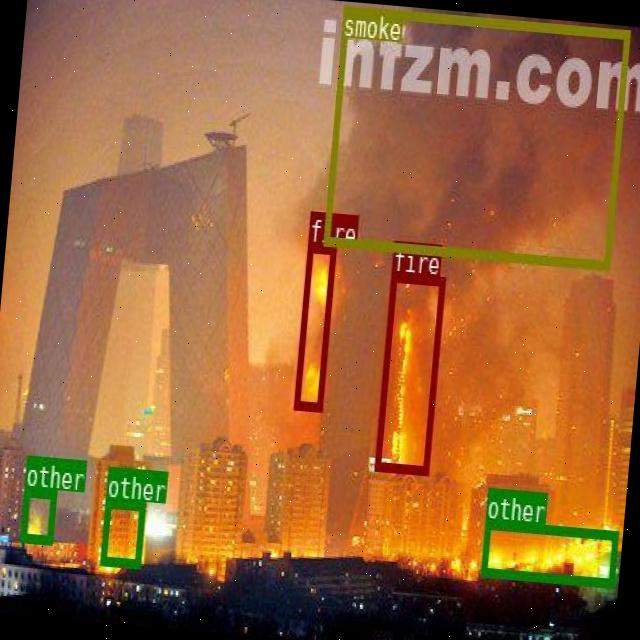fire: (374, 271, 444, 472), (294, 241, 336, 408)
smoke: (322, 4, 630, 267)
